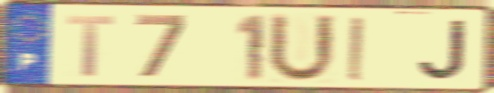1: (234, 12, 268, 83)
7: (132, 12, 192, 81)
I: (345, 15, 367, 83)
J: (416, 18, 469, 82)
T: (64, 13, 118, 79)
U: (265, 11, 338, 85)
